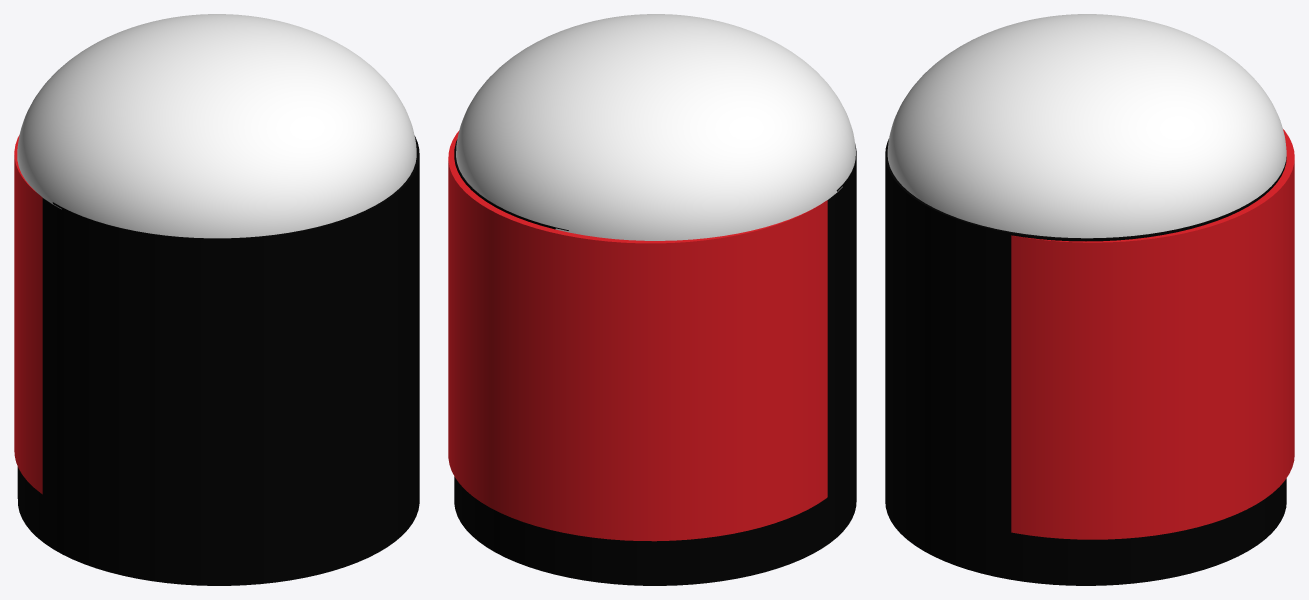
The model's file is Ghost_red_monster.fbx.
The picture shows the model from 3 angles, left to right: view 1: azimuth 30°, elevation 25°; view 2: azimuth 150°, elevation 25°; view 3: azimuth 270°, elevation 25°; orthographic projection.
Visible parts, largest first — view 1: node_id5, node_id16, node_id50; view 2: node_id50, node_id16, node_id5, node_id11; view 3: node_id50, node_id16, node_id5, node_id11.
Part boxes in pixels (x1,y1,x2,y2): node_id5: (17,136,419,585); node_id16: (17,14,416,238); node_id50: (14,135,42,494); node_id50: (448,130,827,541); node_id16: (456,14,855,240); node_id5: (454,139,856,585); node_id11: (465,490,541,562); node_id50: (1011,129,1294,539); node_id16: (887,14,1286,238); node_id5: (885,139,1286,585); node_id11: (1238,479,1286,547).
Size of the model in its own units: 0.4091 by 0.512 by 0.4142.
Materials: 4 (2 with a texture image).
